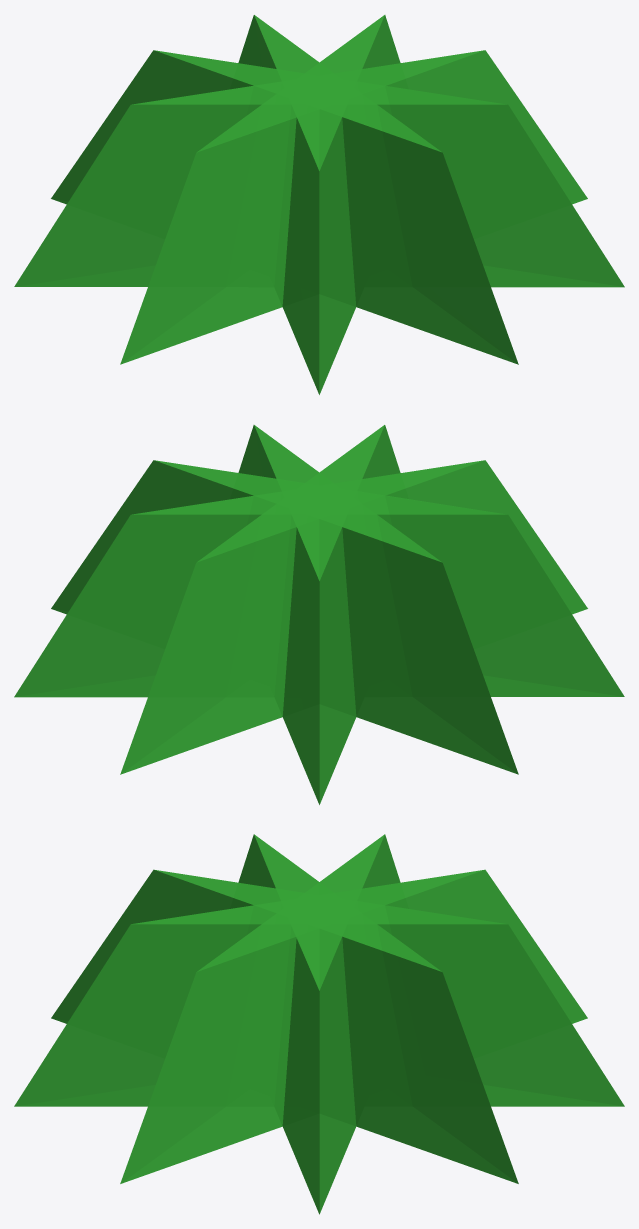
File: EneagrammicPyramid.obj
3 renders of one model, top to bottom at view 1: azimuth 30°, elevation 25°; view 2: azimuth 150°, elevation 25°; view 3: azimuth 270°, elevation 25°, orthographic.
Bounding box in the file's own units: 3.88 × 1.24 × 3.94.
